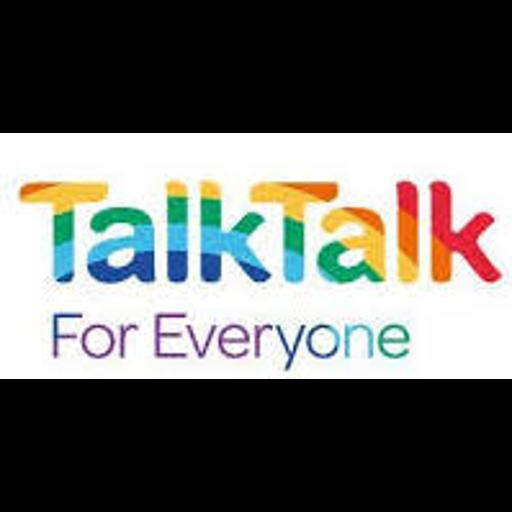TalkTalk Communications: (0, 133, 512, 379)
